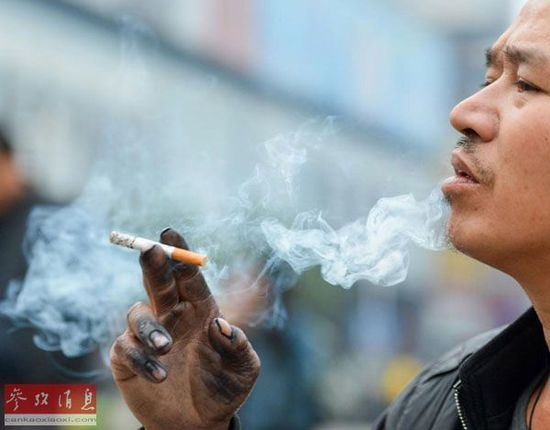smoke: (256, 187, 445, 290), (3, 174, 107, 347)
